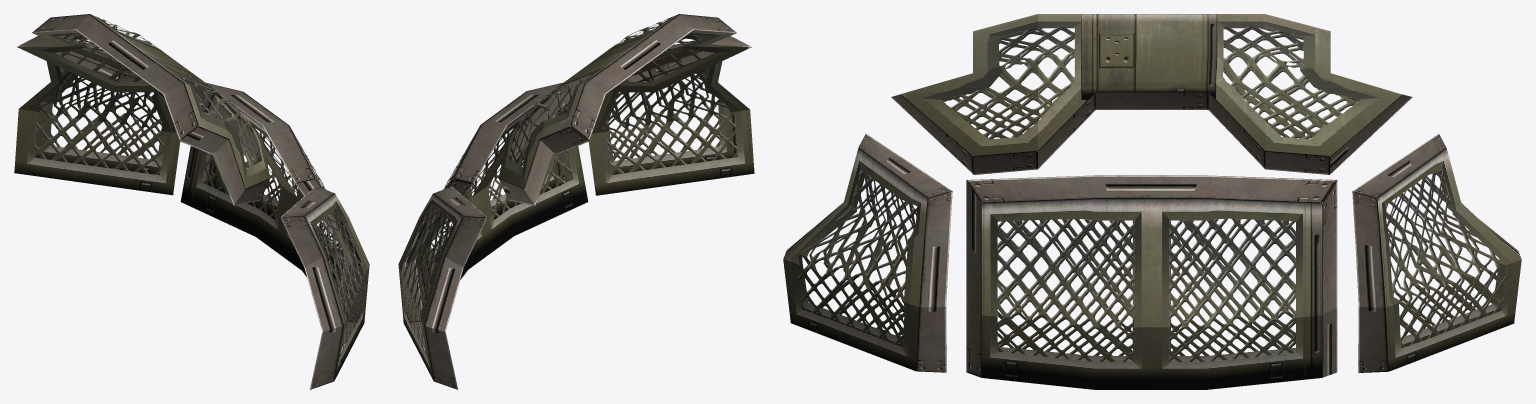
The model's file is light_unit_hardened.obj.
3 renders of one model, left to right at view 1: azimuth 30°, elevation 25°; view 2: azimuth 150°, elevation 25°; view 3: azimuth 270°, elevation 25°, orthographic. The views are drawn at different scales.
Parts seen in each view (by area): view 1: polySurface3; view 2: polySurface3; view 3: polySurface3.
Part boxes in pixels (<box>): polySurface3: <box>14,14,369,389</box>; polySurface3: <box>398,14,754,389</box>; polySurface3: <box>783,14,1521,389</box>.
Size of the model in its own units: 7.1 by 8.09 by 18.81.
Materials: 1 (1 with a texture image).
